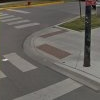crosswalk: (0, 45, 38, 81), (0, 12, 41, 30)
